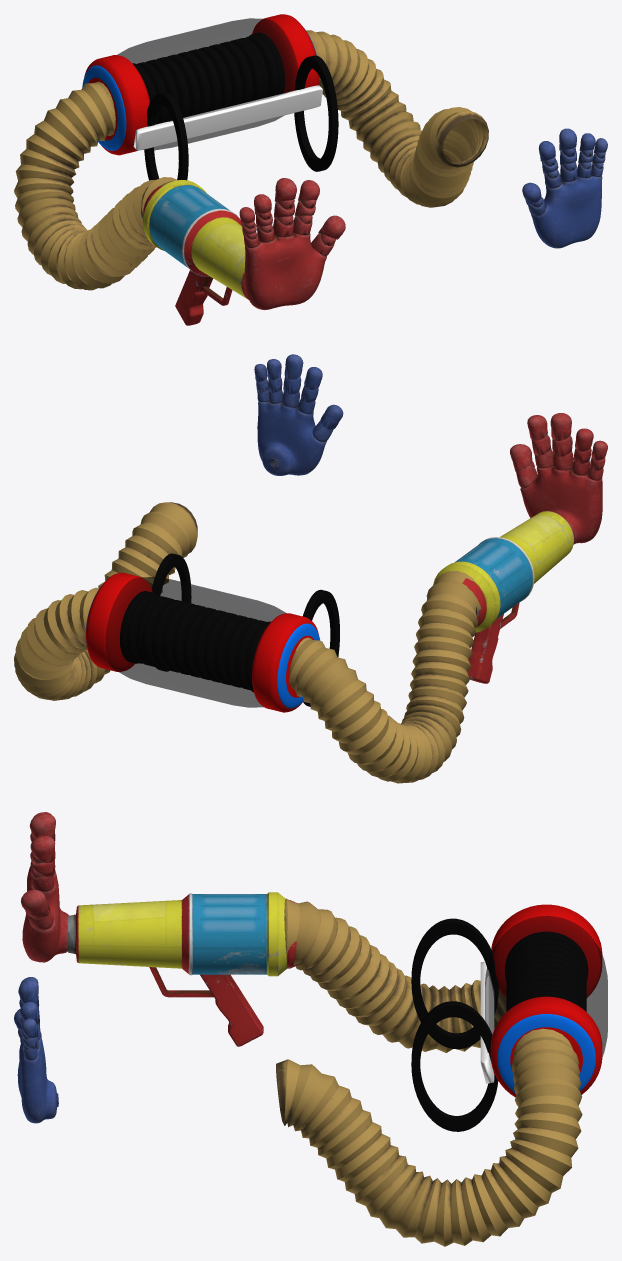
The model's file is grabpack.glb.
The picture shows the model from 3 angles, top to bottom: view 1: azimuth 30°, elevation 25°; view 2: azimuth 150°, elevation 25°; view 3: azimuth 270°, elevation 25°; orthographic projection. The views are drawn at different scales.
Parts seen in each view (by area): view 1: Object_10, Object_2, Object_3, Object_6, Object_7, Object_5, Object_11, Object_8, Object_4, Object_9; view 2: Object_10, Object_2, Object_3, Object_7, Object_6, Object_5, Object_11, Object_8, Object_9; view 3: Object_10, Object_3, Object_2, Object_8, Object_11, Object_6, Object_7, Object_5, Object_9, Object_4.
Part boxes in pixels (<box>): Object_10: <box>14,30,488,290</box>; Object_2: <box>117,18,297,150</box>; Object_3: <box>141,180,248,325</box>; Object_6: <box>239,178,345,310</box>; Object_7: <box>137,35,278,123</box>; Object_5: <box>522,128,607,248</box>; Object_11: <box>84,14,319,155</box>; Object_8: <box>132,32,338,180</box>; Object_4: <box>133,85,322,150</box>; Object_9: <box>82,28,319,150</box>; Object_10: <box>14,502,481,783</box>; Object_2: <box>106,577,286,707</box>; Object_3: <box>433,511,574,683</box>; Object_7: <box>126,593,266,689</box>; Object_6: <box>510,413,607,544</box>; Object_5: <box>254,354,343,475</box>; Object_11: <box>86,572,318,712</box>; Object_8: <box>120,553,339,706</box>; Object_9: <box>85,588,320,708</box>; Object_10: <box>276,898,582,1246</box>; Object_3: <box>68,892,299,1046</box>; Object_2: <box>485,916,607,1056</box>; Object_8: <box>411,918,588,1131</box>; Object_11: <box>490,904,602,1097</box>; Object_6: <box>21,812,68,962</box>; Object_7: <box>506,939,586,1011</box>; Object_5: <box>14,977,58,1123</box>; Object_9: <box>497,1014,595,1092</box>; Object_4: <box>480,961,494,1083</box>.
Size of the model in its own units: 6.23 by 3.36 by 7.08.
9 materials, 3 textured.
